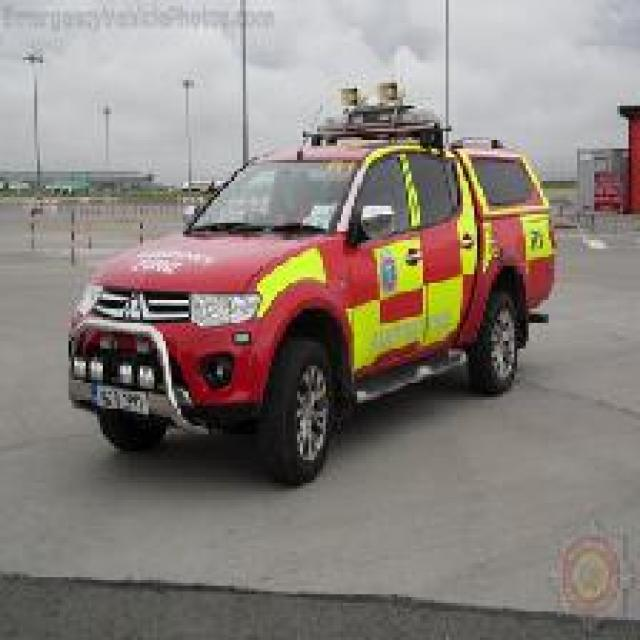Fire-truck: (63, 77, 557, 486)
